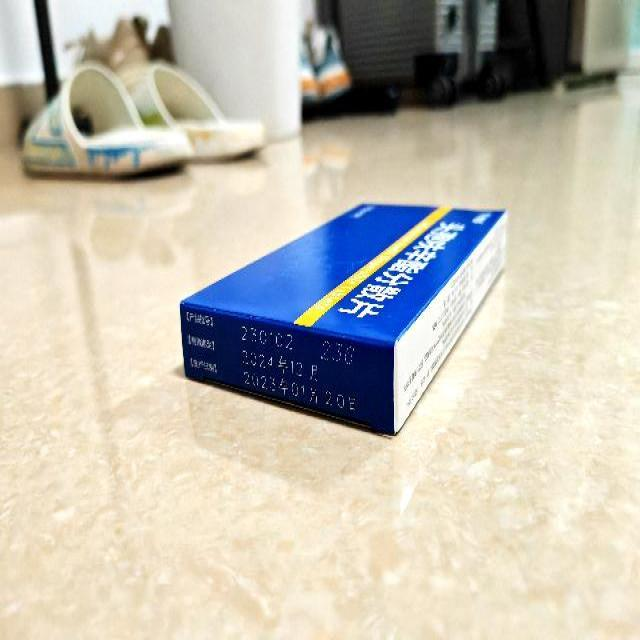box: (182, 199, 508, 438)
